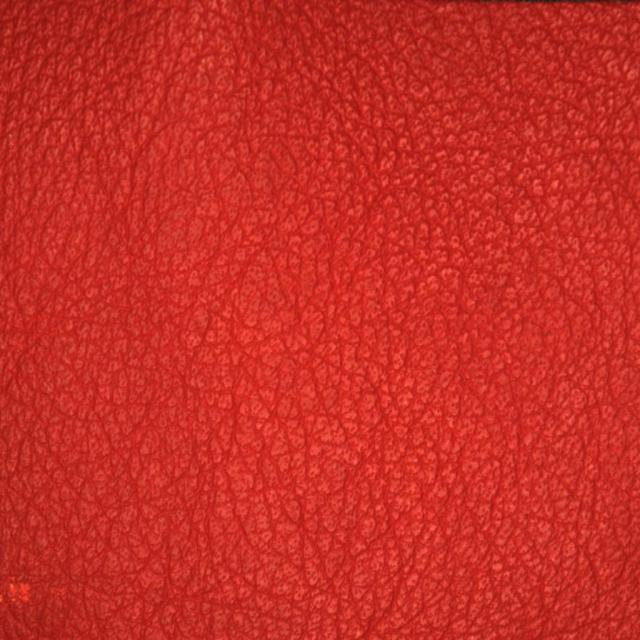Healed Injury: (11, 538, 88, 629)
